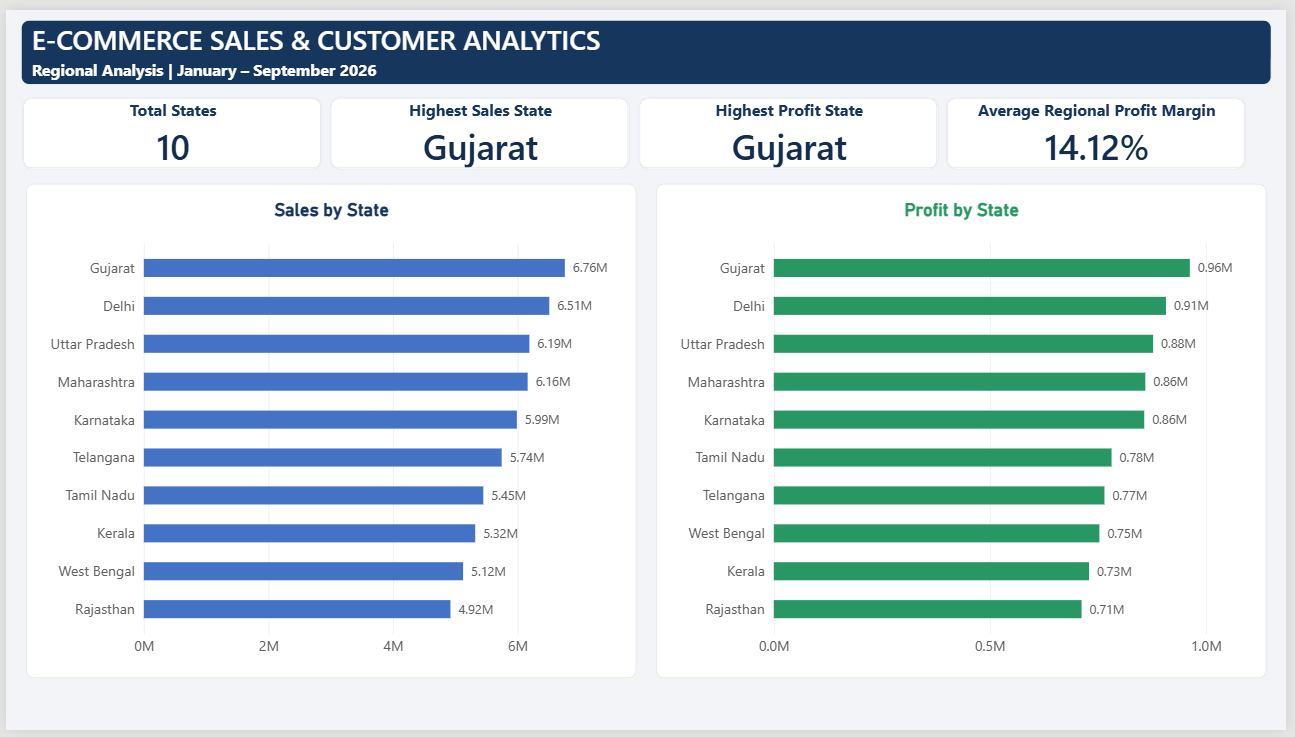

The dashboard page shown, as its layout file describes it:
{"tool":"powerbi","page":{"name":"Regional_Analysis","canvas":[1280,720],"ordinal":2},"visuals":[{"type":"textbox","title":"E-COMMERCE SALES & CUSTOMER ANALYTICS","box":[15,10,1250,65],"z":0},{"type":"cardVisual","fields":{"Data":["Count(ecommerce_sales_cleaned.State)"]},"box":[16,88,300,72],"z":1000},{"type":"cardVisual","fields":{"Data":["ecommerce_sales_cleaned.Highest Sales State"]},"box":[324,88,300,72],"z":2000},{"type":"cardVisual","fields":{"Data":["ecommerce_sales_cleaned.Highest Profit State"]},"box":[632,88,300,72],"z":3000},{"type":"cardVisual","fields":{"Data":["ecommerce_sales_cleaned.Average Regional Profit Margin"]},"box":[940,88,300,72],"z":4000},{"type":"clusteredBarChart","title":"Sales by State","fields":{"Category":["ecommerce_sales_cleaned.State"],"Y":["Sum(ecommerce_sales_cleaned.Sales)"]},"box":[20,174.3,610,494.3],"z":5000},{"type":"clusteredBarChart","title":"Profit by State","fields":{"Category":["ecommerce_sales_cleaned.State"],"Y":["Sum(ecommerce_sales_cleaned.Profit)"]},"box":[650,174.3,610,494.3],"z":6000}]}

Visuals, with their boxes in screenshot pixels (x1, y1, x2, y2), scaled from the page's 1280x720 canvas onto the 1295x737 screenshot:
"E-COMMERCE SALES & CUSTOMER ANALYTICS" textbox: 15 10 1280 77
cardVisual - Count(ecommerce_sales_cleaned.State): 16 90 320 164
cardVisual - ecommerce_sales_cleaned.Highest Sales State: 328 90 631 164
cardVisual - ecommerce_sales_cleaned.Highest Profit State: 639 90 943 164
cardVisual - ecommerce_sales_cleaned.Average Regional Profit Margin: 951 90 1255 164
"Sales by State" clusteredBarChart: 20 178 637 684
"Profit by State" clusteredBarChart: 658 178 1275 684
